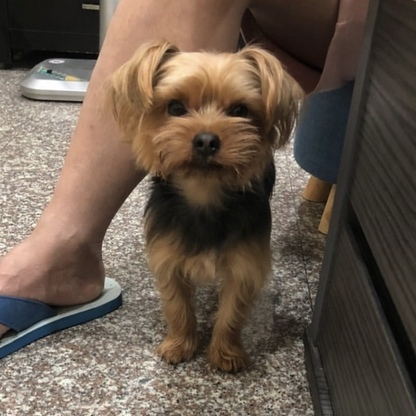yorkshire: (104, 39, 306, 370)
